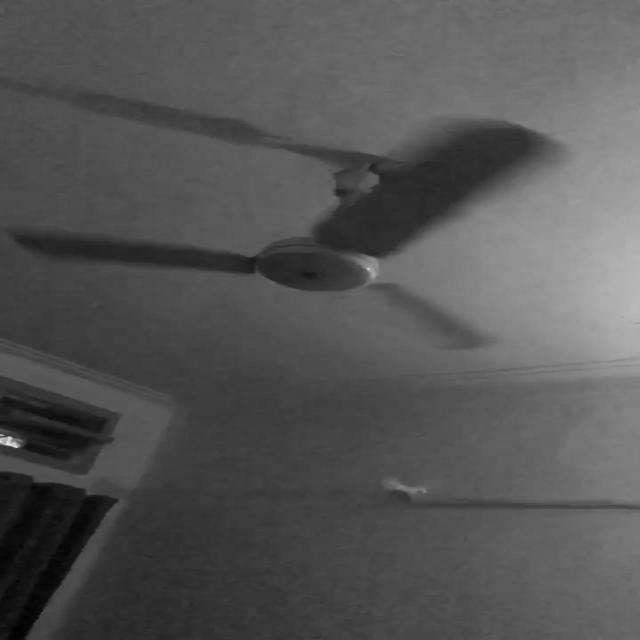fan: (1, 77, 569, 351)
light: (252, 236, 380, 292)
